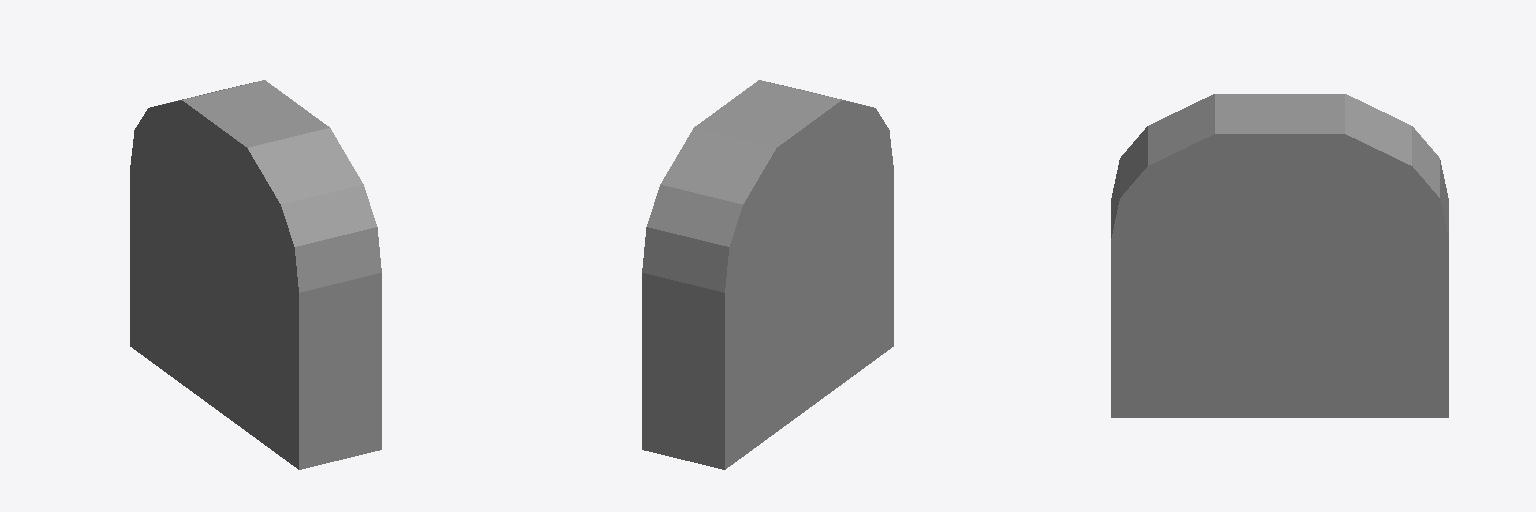
The model's file is lapide.obj.
3 views of the same model, side by side, from view 1: azimuth 30°, elevation 25°; view 2: azimuth 150°, elevation 25°; view 3: azimuth 270°, elevation 25° (orthographic).
Visible parts, largest first — view 1: Cube_Cube; view 2: Cube_Cube; view 3: Cube_Cube.
Boxes of the visible parts, box(x1,y1,x2,y2) form: Cube_Cube: box(130, 80, 381, 469); Cube_Cube: box(642, 80, 893, 469); Cube_Cube: box(1111, 94, 1448, 417).
Bounding box in the file's own units: 4.96 × 16.26 × 17.53.